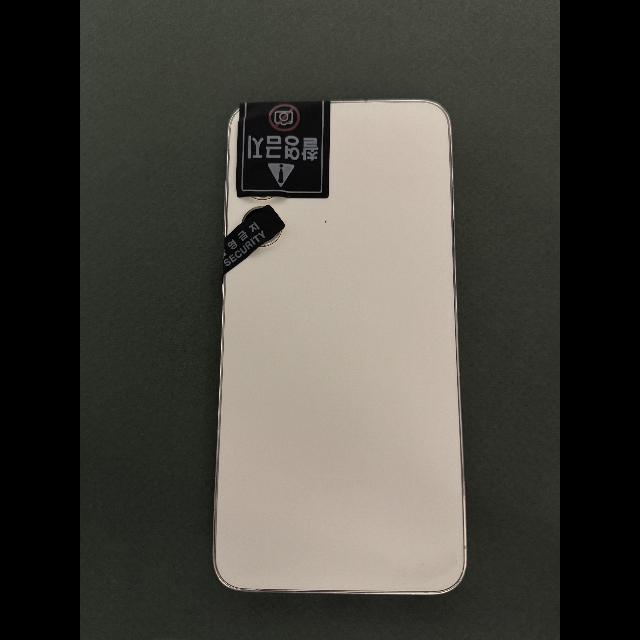lens: (242, 206, 264, 223)
phone: (212, 101, 467, 594)
sticker: (237, 100, 332, 198), (222, 204, 285, 277)
